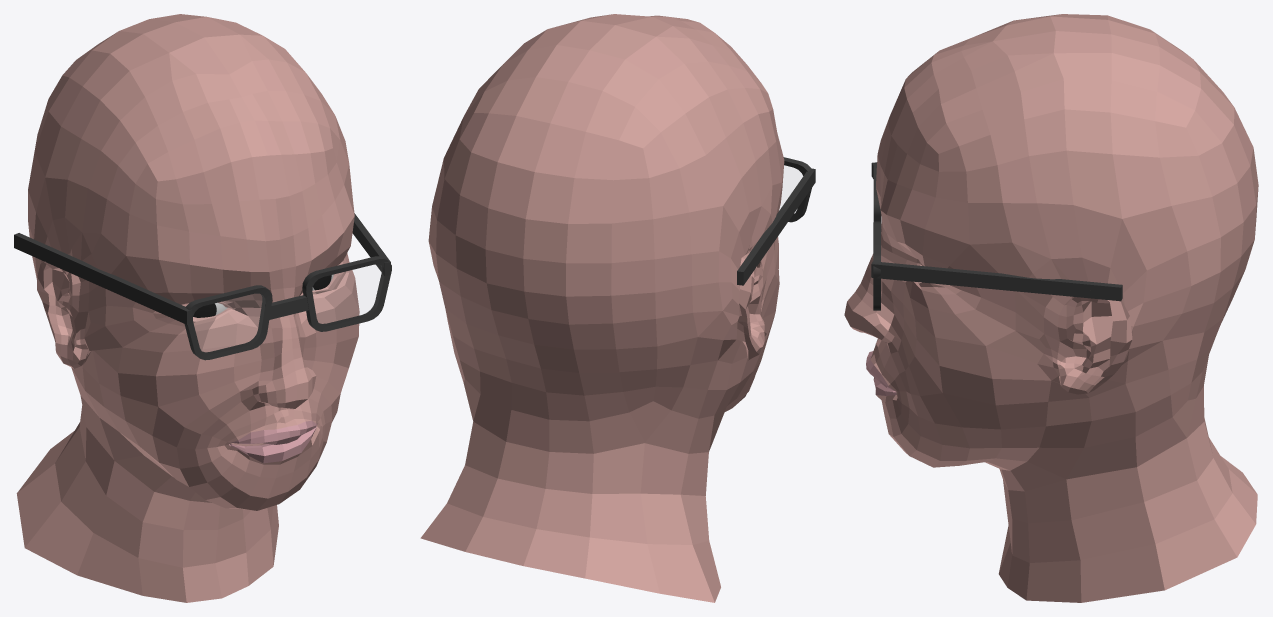
The model's file is OldmanProfessor.fbx.
The picture shows the model from 3 angles, left to right: view 1: azimuth 30°, elevation 25°; view 2: azimuth 150°, elevation 25°; view 3: azimuth 270°, elevation 25°; orthographic projection.
Parts seen in each view (by area): view 1: Group2, pCube7, pCube5, pCube1, pCube8, pCube6; view 2: Group2, pCube7; view 3: Group2, pCube8, pCube5.
Boxes of the visible parts, <box> form: Group2: <box>16,14,359,602</box>; pCube7: <box>14,233,191,324</box>; pCube5: <box>302,256,391,331</box>; pCube1: <box>184,285,272,360</box>; pCube8: <box>352,213,390,276</box>; pCube6: <box>265,295,308,319</box>; Group2: <box>420,14,784,602</box>; pCube7: <box>737,168,815,285</box>; Group2: <box>844,14,1258,602</box>; pCube8: <box>871,261,1122,301</box>; pCube5: <box>873,222,880,310</box>.
Size of the model in its own units: 11.69 by 19.66 by 13.46.
